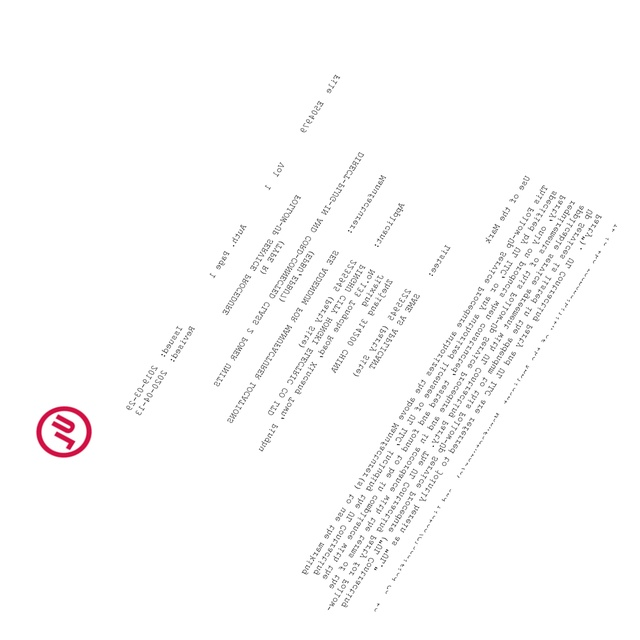ul: (36, 403, 93, 458)
